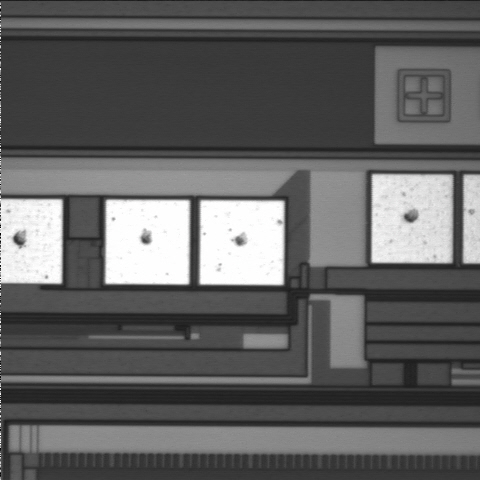pad: (105, 200, 190, 285), (199, 200, 284, 285), (372, 174, 452, 263)
